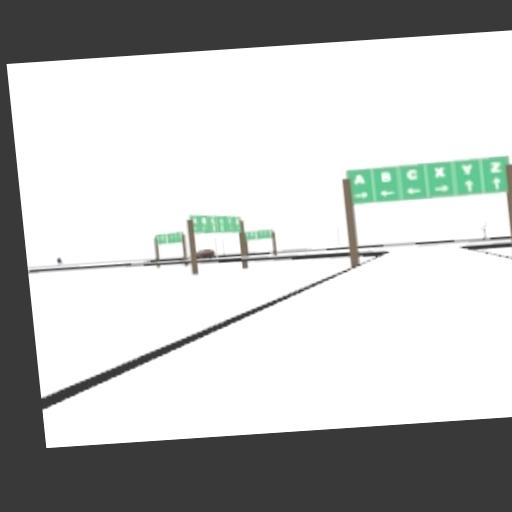A: (353, 172, 367, 186)
B: (379, 169, 393, 184)
C: (406, 167, 420, 182)
Left: (406, 185, 423, 197), (380, 189, 398, 199)
Right: (433, 183, 450, 194), (353, 190, 369, 200)
Straight: (464, 179, 475, 194), (492, 176, 503, 191)
X: (432, 165, 447, 179)
Y: (461, 162, 474, 177)
Z: (490, 159, 503, 173)
